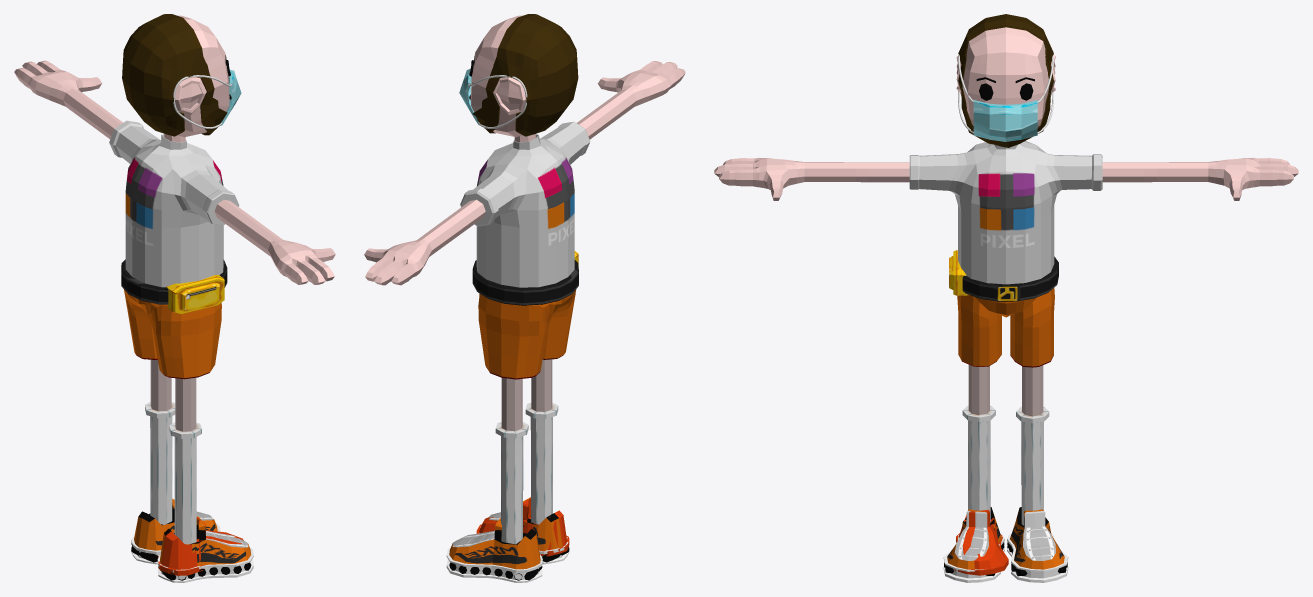
File: Alvaro.fbx
The picture shows the model from 3 angles, left to right: view 1: azimuth 30°, elevation 25°; view 2: azimuth 150°, elevation 25°; view 3: azimuth 270°, elevation 25°; orthographic projection.
Visible parts, largest first — view 1: Camisa, Cabeca.001, Calca, Perna_D, Mao_D, Perna_E, Mao_E, Cabeca, Tenis_Jack_D, Tenis_Jack_E, Pochete_bolsa, Tenis_Base (+1 smaller); view 2: Camisa, Cabeca.001, Calca, Tenis_Jack_E, Perna_E, Mao_E, Perna_D, Mao_D, Cabeca, Pochete_Alca, Tenis_Jack_D, Tenis_Base; view 3: Camisa, Calca, Cabeca, Mao_E, Mao_D, Perna_E, Perna_D, Tenis_Jack_E, Mascara, Cabeca.001, Tenis_Jack_D, Pochete_Alca (+1 smaller).
Part boxes in pixels (box(x1,y1,x2,y2)): Camisa: box(109, 120, 239, 287); Cabeca.001: box(122, 14, 227, 136); Calca: box(124, 289, 221, 379); Perna_D: box(169, 377, 201, 544); Mao_D: box(214, 199, 335, 284); Perna_E: box(145, 359, 175, 524); Mao_E: box(14, 60, 122, 138); Cabeca: box(175, 15, 229, 137); Tenis_Jack_D: box(157, 516, 253, 582); Tenis_Jack_E: box(131, 498, 220, 564); Pochete_bolsa: box(166, 275, 224, 313); Tenis_Base: box(158, 517, 243, 575); Camisa: box(460, 121, 590, 287); Cabeca.001: box(472, 14, 578, 136); Calca: box(478, 289, 576, 379); Tenis_Jack_E: box(446, 518, 542, 582); Perna_E: box(495, 377, 528, 544); Mao_E: box(364, 199, 485, 285); Perna_D: box(525, 359, 558, 524); Mao_D: box(577, 61, 685, 139); Cabeca: box(470, 15, 525, 137); Pochete_Alca: box(472, 260, 578, 305); Tenis_Jack_D: box(480, 497, 569, 564); Tenis_Base: box(476, 497, 569, 556); Camisa: box(909, 141, 1102, 284); Calca: box(957, 288, 1054, 367); Cabeca: box(956, 27, 1055, 127); Mao_E: box(1102, 157, 1298, 200); Mao_D: box(714, 157, 909, 200); Perna_E: box(1016, 365, 1049, 525); Perna_D: box(962, 365, 995, 523); Tenis_Jack_E: box(1007, 507, 1068, 582); Mascara: box(973, 100, 1037, 141); Cabeca.001: box(958, 14, 1053, 147); Tenis_Jack_D: box(943, 507, 1004, 582); Pochete_Alca: box(962, 256, 1058, 301).
Bounding box in the file's own units: 103 × 485 × 480.
